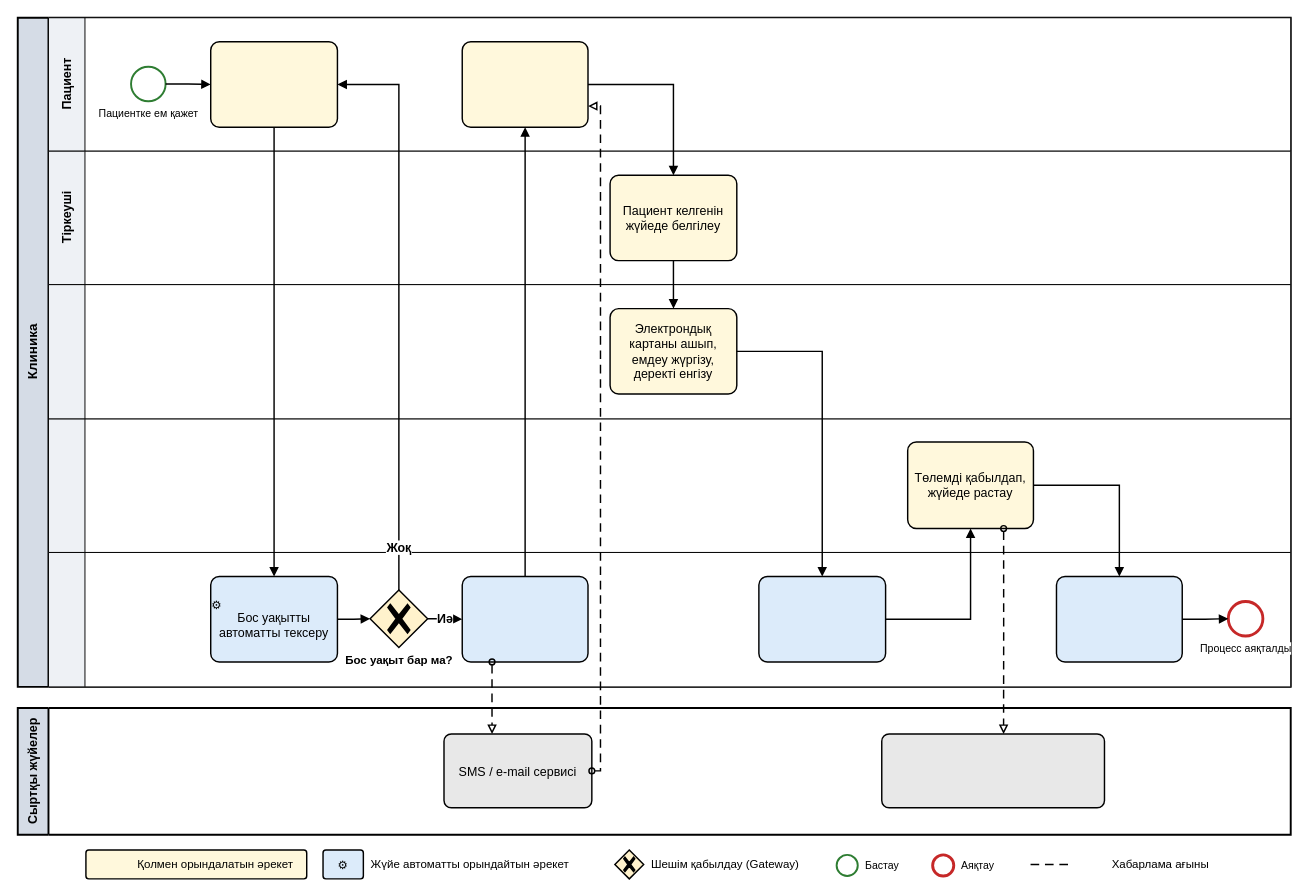
This 1308x896 diagram has some shape labels left out. Here are the shapes that lost their labels. From the top down, the box of each, then its label:
(210, 41, 338, 127): Сайтта немесе қосымшада дәрігер мен уақытты таңдау
(461, 41, 588, 127): Клиникаға келу
(48, 284, 1291, 419): Тіс дәрігері
(48, 418, 1291, 552): Кассир
(461, 575, 588, 662): ⚙ Жазылымды тіркеп, растау мен еске салу жіберу
(48, 552, 1291, 687): Ақпараттық жүйе
(758, 575, 886, 662): ⚙ Шотты автоматты қалыптастыру
(1055, 575, 1183, 662): ⚙ Төлемді тіркеп, есепті жаңарту, келесі визитке еске салу
(881, 733, 1105, 808): Төлем терминалы / онлайн-төлем жүйесі
